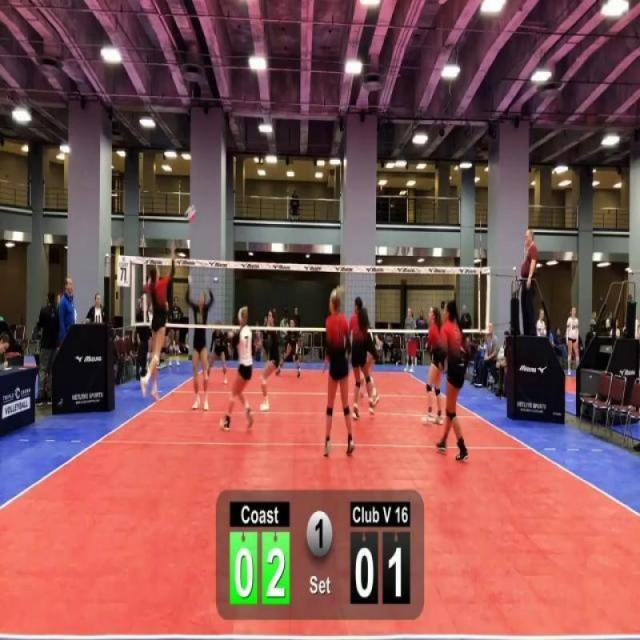volleyball: (183, 202, 197, 225)
